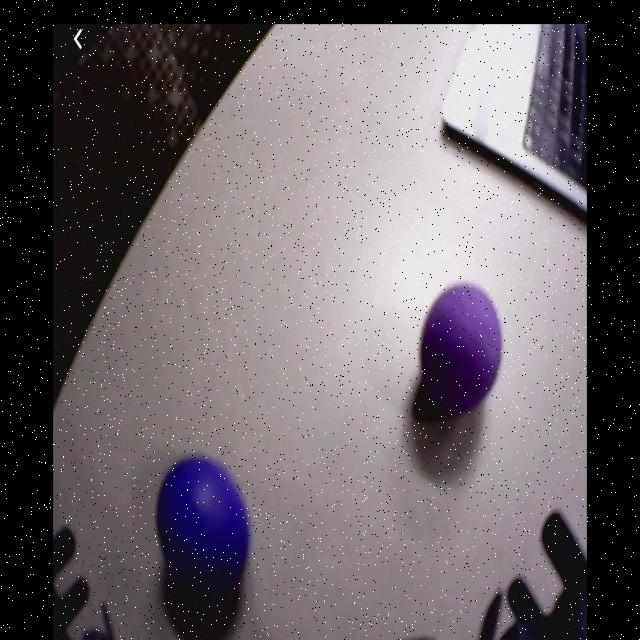ball: (153, 455, 249, 608), (417, 282, 505, 410)
